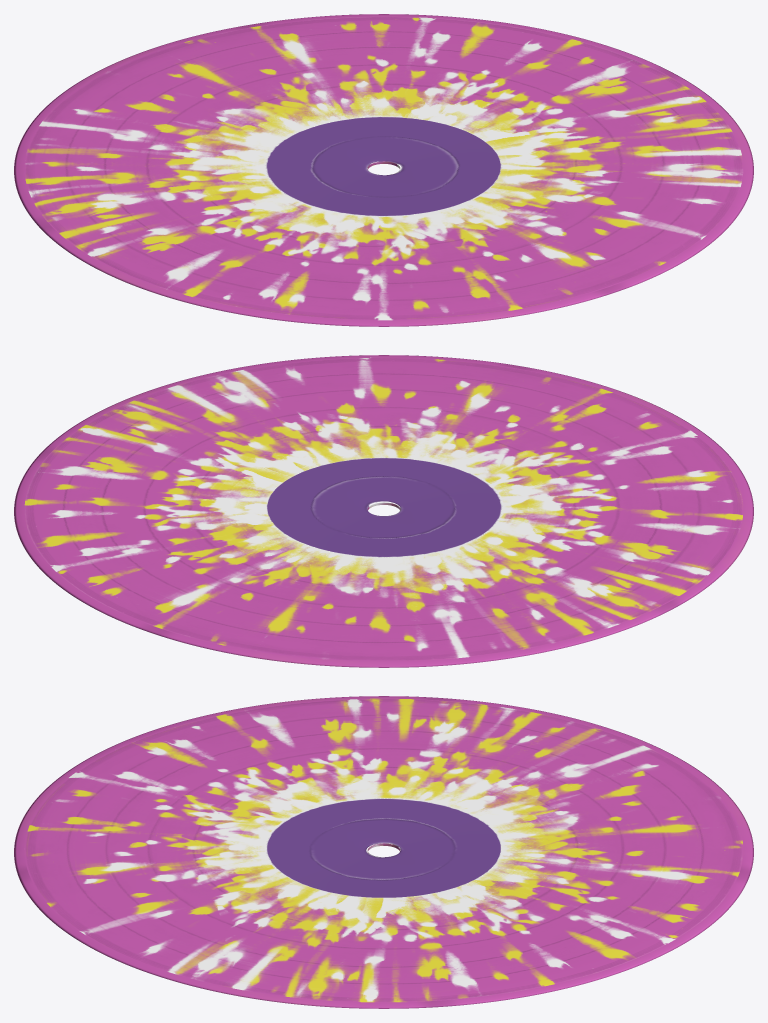
Rendered from Record Phase 3.fbx.
3 views of the same model, one above another, from view 1: azimuth 30°, elevation 25°; view 2: azimuth 150°, elevation 25°; view 3: azimuth 270°, elevation 25° (orthographic).
Parts seen in each view (by area): view 1: Record Phase 3; view 2: Record Phase 3; view 3: Record Phase 3.
Part boxes in pixels (box(x1,y1,x2,y2)): Record Phase 3: box(14, 14, 753, 326); Record Phase 3: box(14, 355, 753, 667); Record Phase 3: box(14, 696, 753, 1008).
Size of the model in its own units: 91.14 by 1.17 by 91.14.
